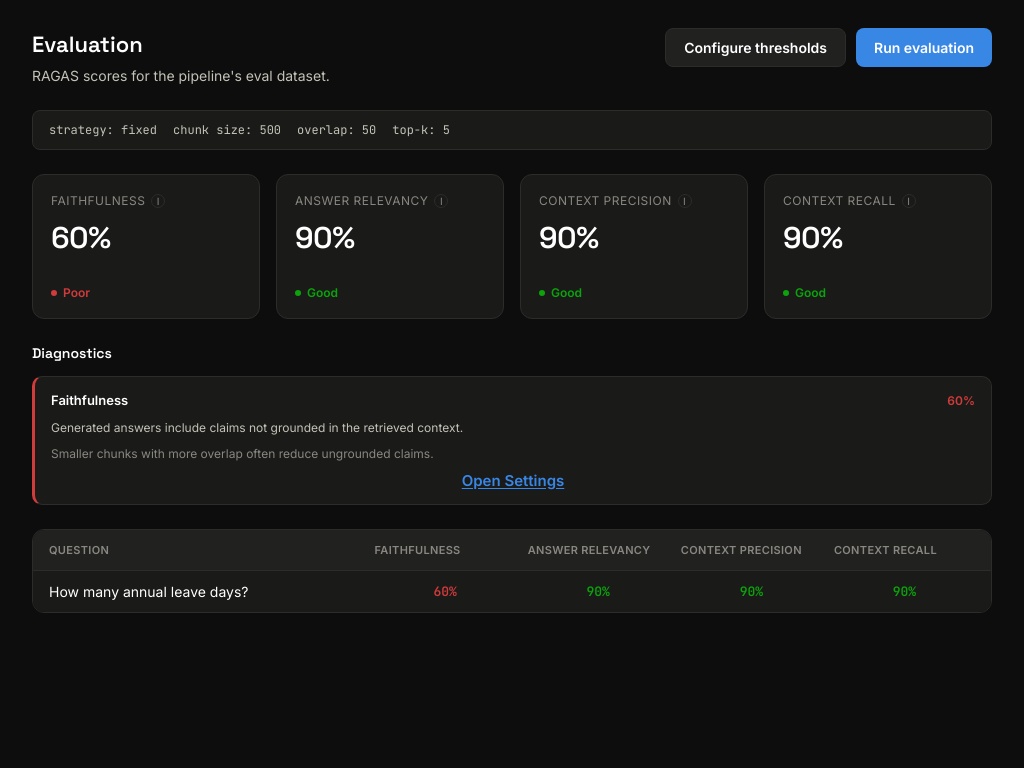
Test case: EvaluationView › clicking a metric tile drills down to its failed questions
Step 1. Click the button with class "kpi-tile" showing "Faithfulness i 60% Poor" → [146, 246], box [32,174,260,319]
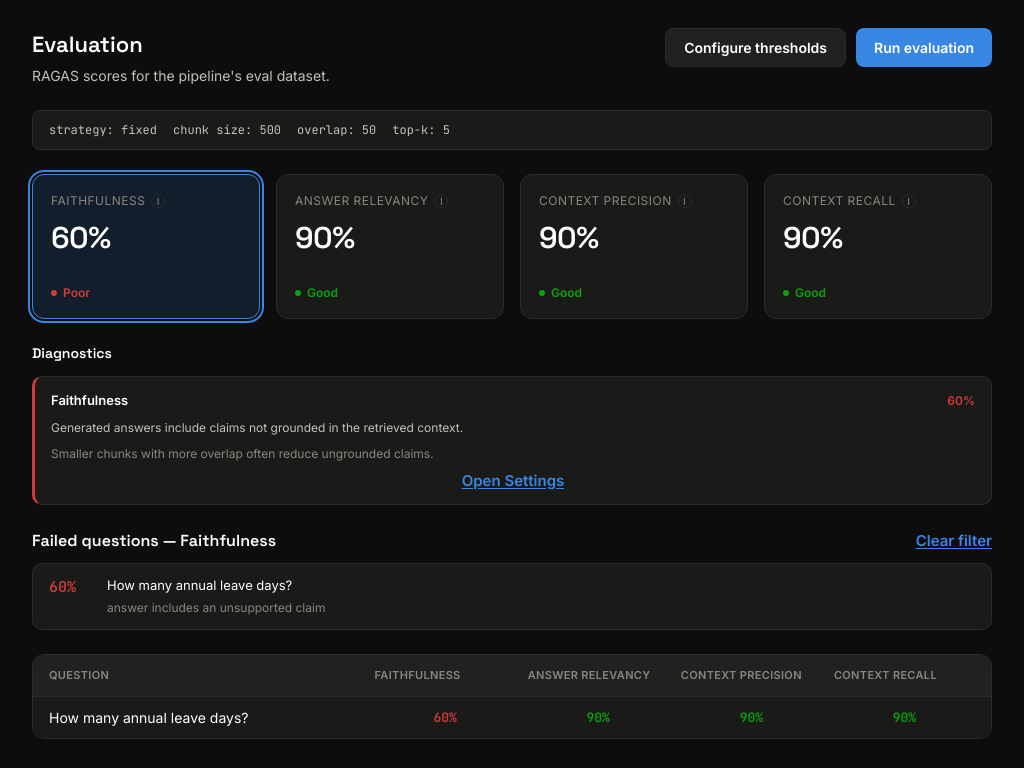
expect the heading "Failed questions — Faithfulness" is shown: met, box [32,528,276,552]
expect the text "How many annual leave days?" below "Failed questions —" is shown: met, box [107,576,292,592]
expect the text "answer includes an unsupported claim" is shown: met, box [107,599,325,617]
Step 2. Click the button "Clear filter" → [954, 540], box [916,530,992,550]
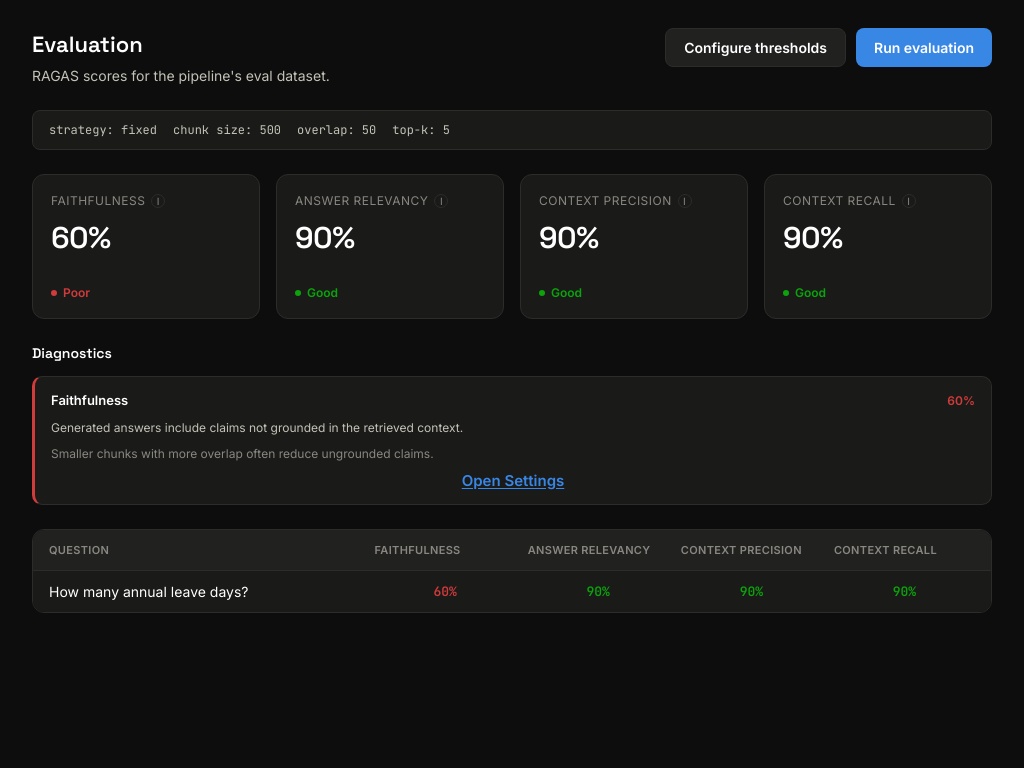
expect the heading "Failed questions — Faithfulness" is gone: met
